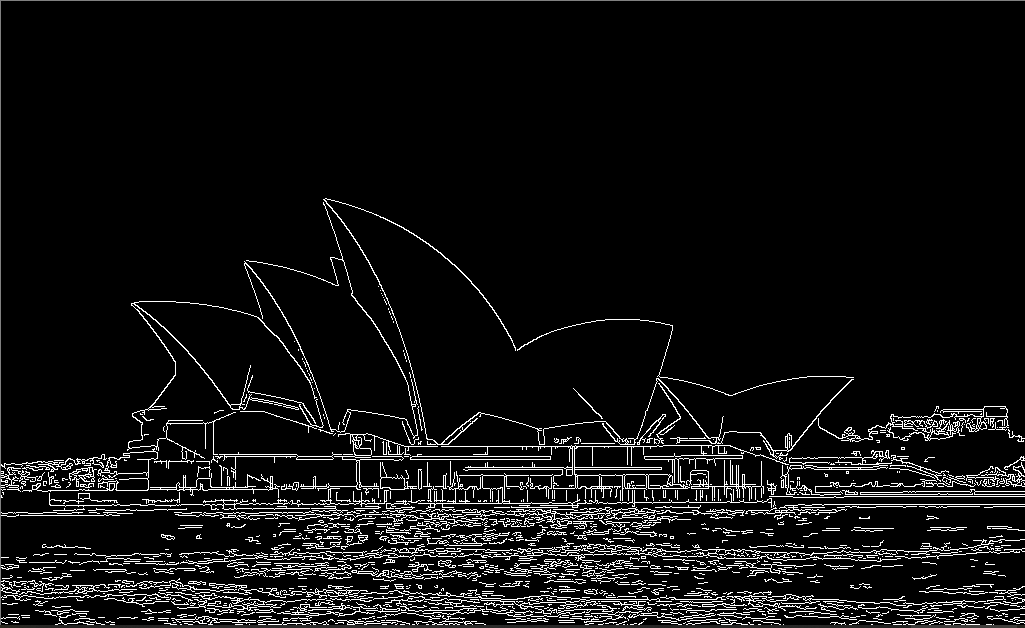opera house: (114, 201, 889, 471)
